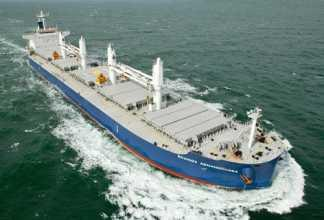Cargoship: (20, 6, 286, 187)
